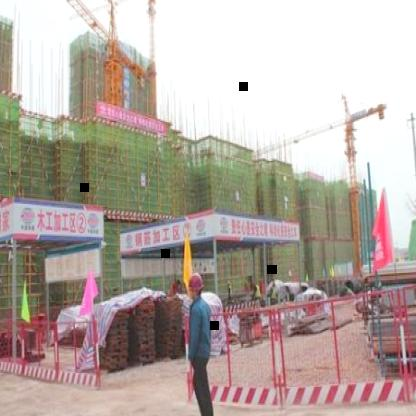helmet: (185, 269, 204, 293)
